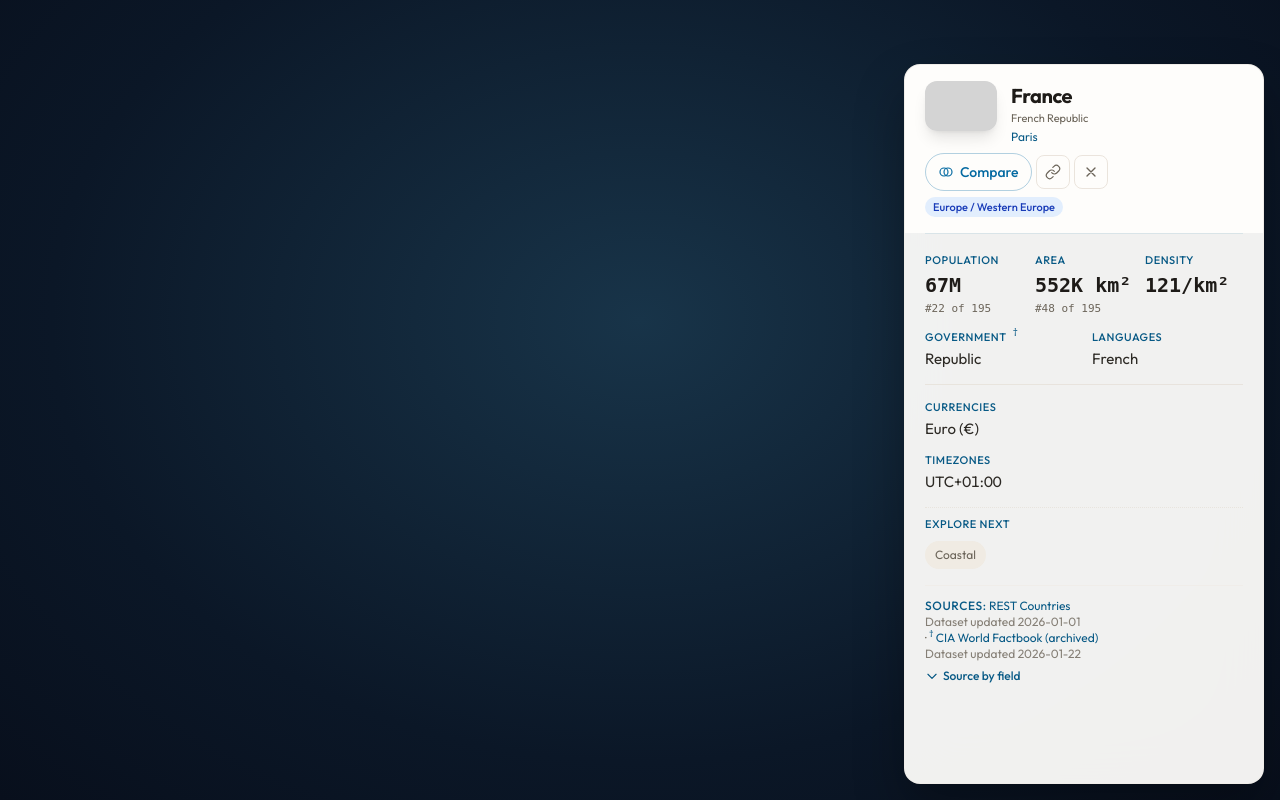
Test: SingleCountryPanel — consolidated sources footer (D2) › disclosure expands into the full field → source table and collapses back
This screenshot has width=1280, height=800.
Click the button with test id "panel-sources-toggle".
click(973, 676)  # box left=925, top=668, right=1020, bottom=684
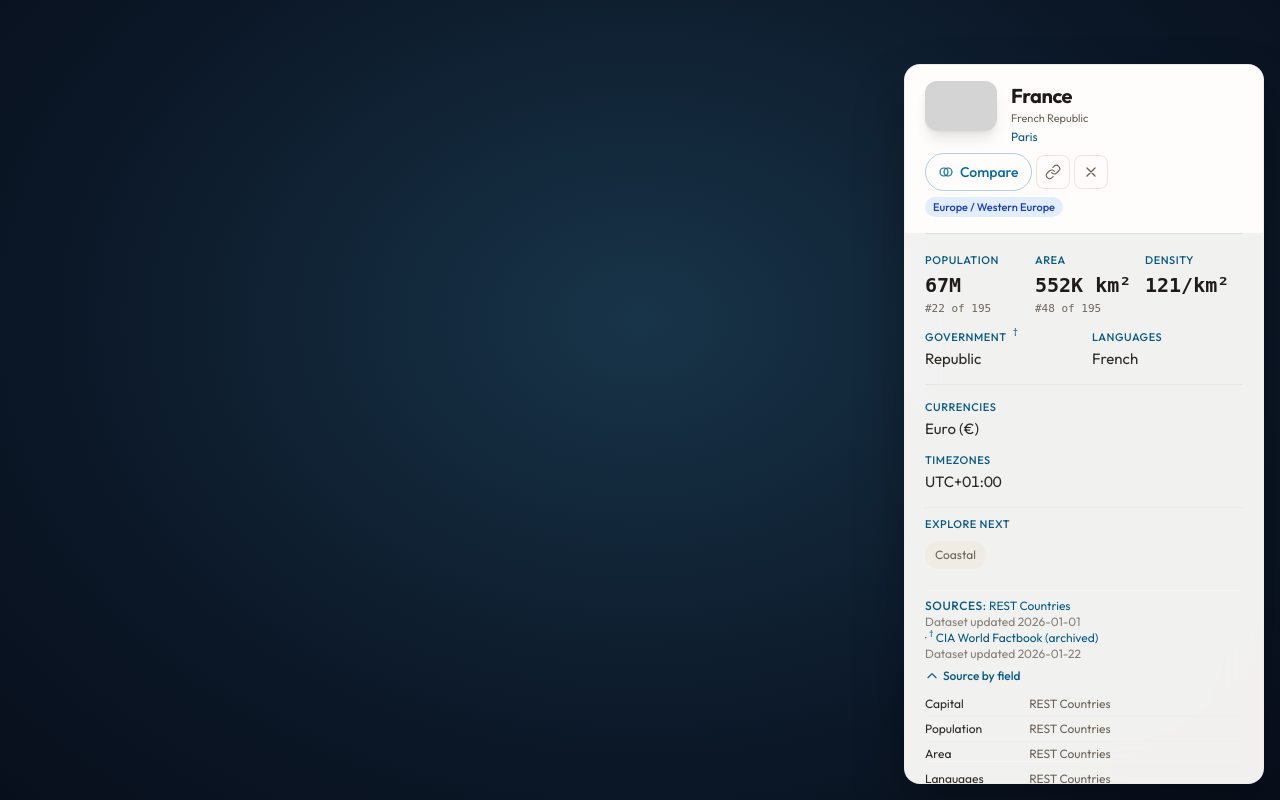
Result: the button with test id "panel-sources-toggle" is expanded
Result: the column heading "Capital" is shown at left=925, top=692, right=1029, bottom=716
Click the button with test id "panel-sources-toggle".
click(973, 676)  # box left=925, top=668, right=1020, bottom=684
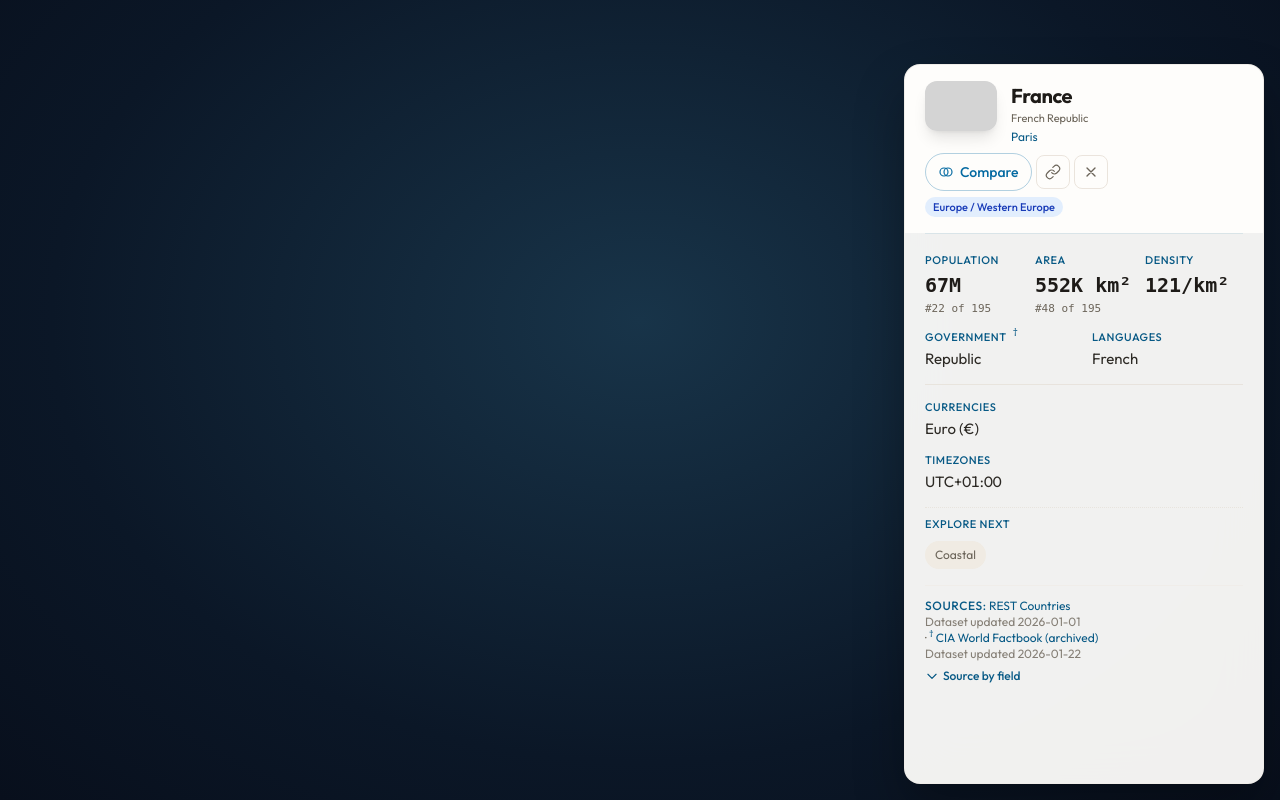
Result: the button with test id "panel-sources-toggle" is collapsed at left=925, top=668, right=1020, bottom=684
